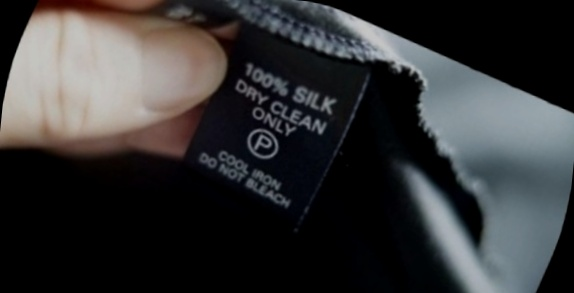dry_clean_any_solvent_except_trichloroethylene: (237, 117, 292, 170)
